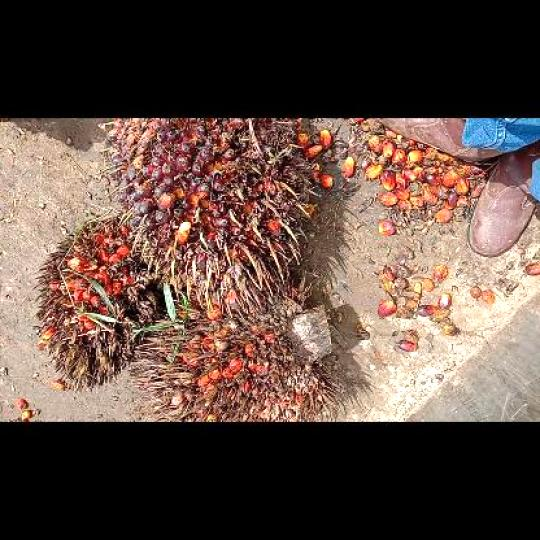masak: (102, 118, 320, 321)
terlalu masak: (129, 302, 336, 420), (28, 216, 158, 392)
